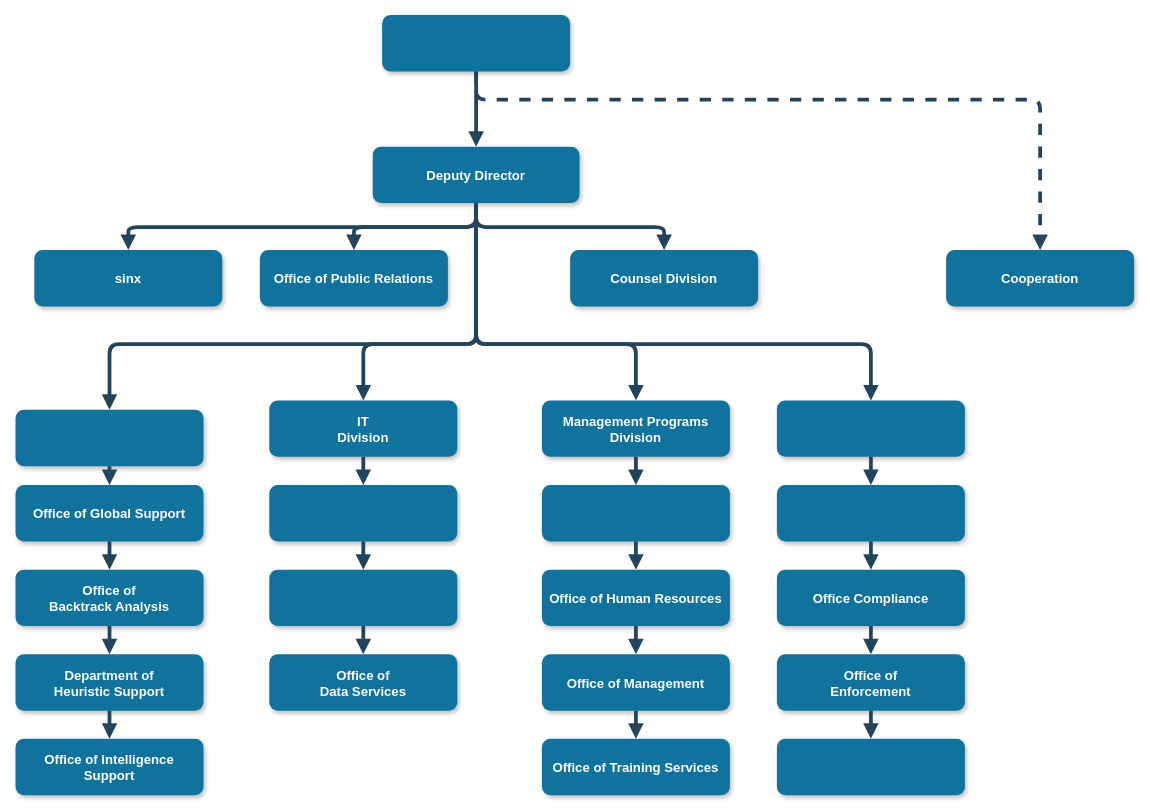
Image size: 1150x810. Some labels were removed from this diagram. Each missing label, with the centre of its shape:
Analysis Division: [110,439]
CEO: [476,44]
Database Administration: [363,514]
Office of Financial Management: [636,514]
Office of Regulatory Policy: [871,514]
Office of Regulatory Support: [871,768]
Office of Technology Research: [363,598]
Regulatory and Enforcement Division: [871,429]
